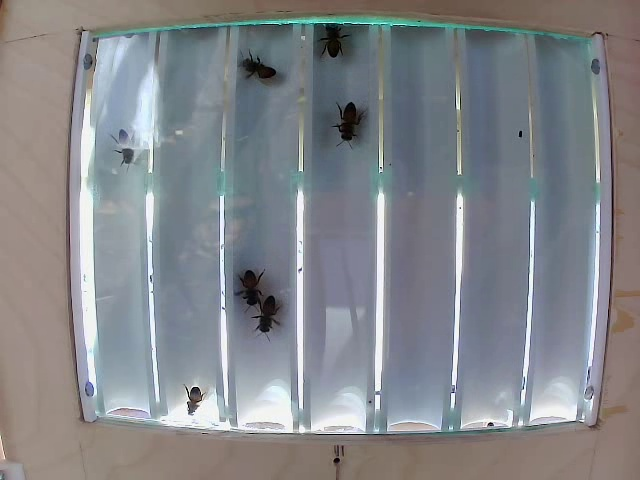bee: (120, 120, 159, 171), (246, 53, 284, 95), (316, 25, 353, 66), (338, 99, 366, 146), (176, 380, 213, 412), (244, 269, 270, 310), (250, 306, 292, 331)
